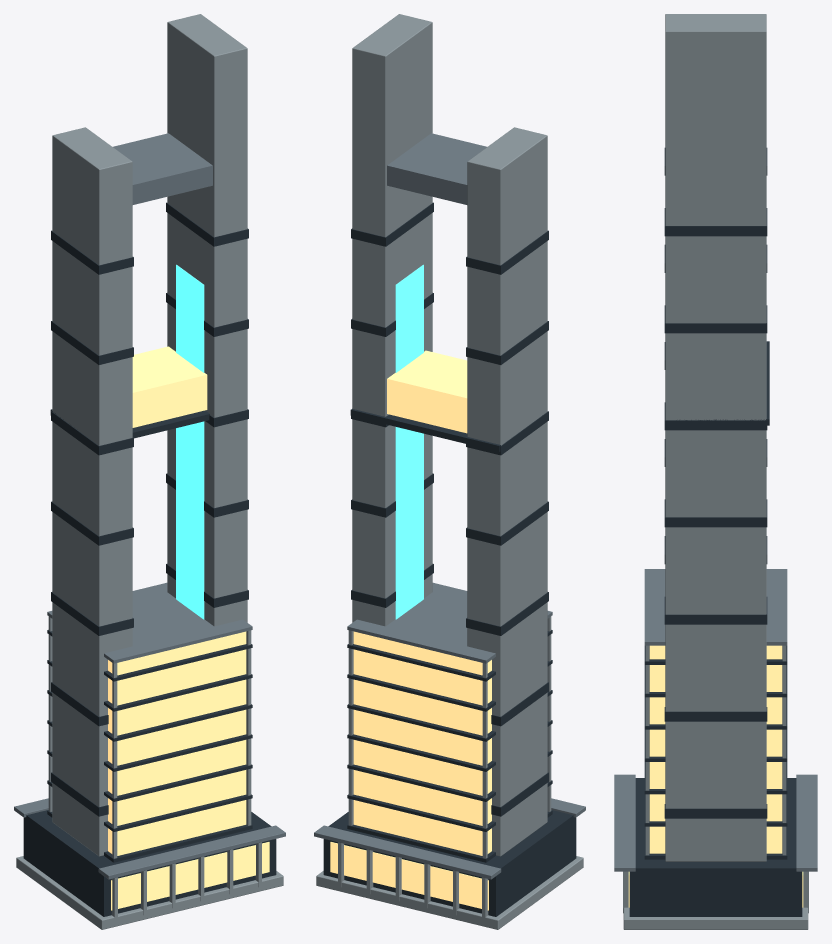
Rendered from vrx_city_landmark_a_LOD0.fbx.
The picture shows the model from 3 angles, left to right: view 1: azimuth 30°, elevation 25°; view 2: azimuth 150°, elevation 25°; view 3: azimuth 270°, elevation 25°; orthographic projection. The views are drawn at different scales.
Visible parts, largest first — view 1: vrx_city_landmark_a_LOD0; view 2: vrx_city_landmark_a_LOD0; view 3: vrx_city_landmark_a_LOD0.
Part boxes in pixels (box(x1,y1,x2,y2)): vrx_city_landmark_a_LOD0: box(14, 14, 285, 929); vrx_city_landmark_a_LOD0: box(314, 14, 585, 929); vrx_city_landmark_a_LOD0: box(614, 14, 817, 929).
Bounding box in the file's own units: 38 × 165 × 34.2.
